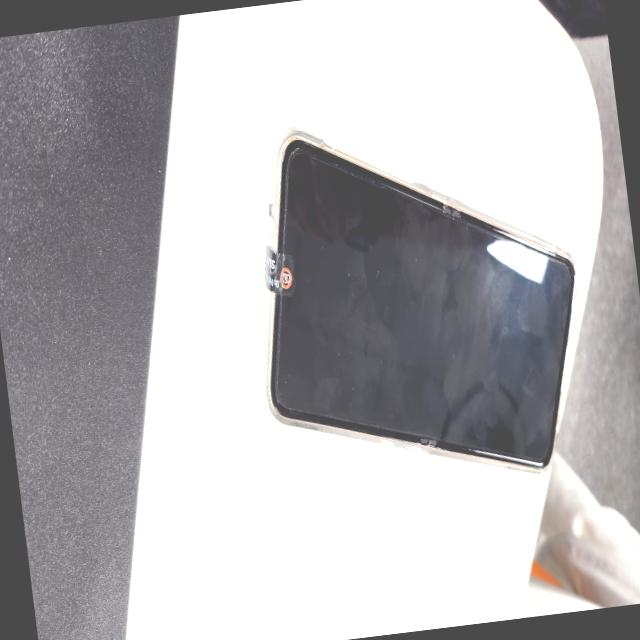phone: (232, 98, 602, 507)
sticker: (258, 242, 298, 300)
